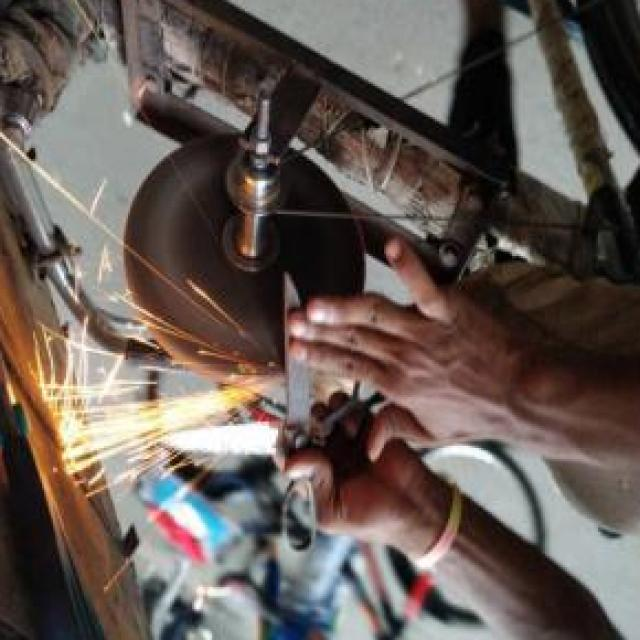knife: (270, 276, 314, 552)
